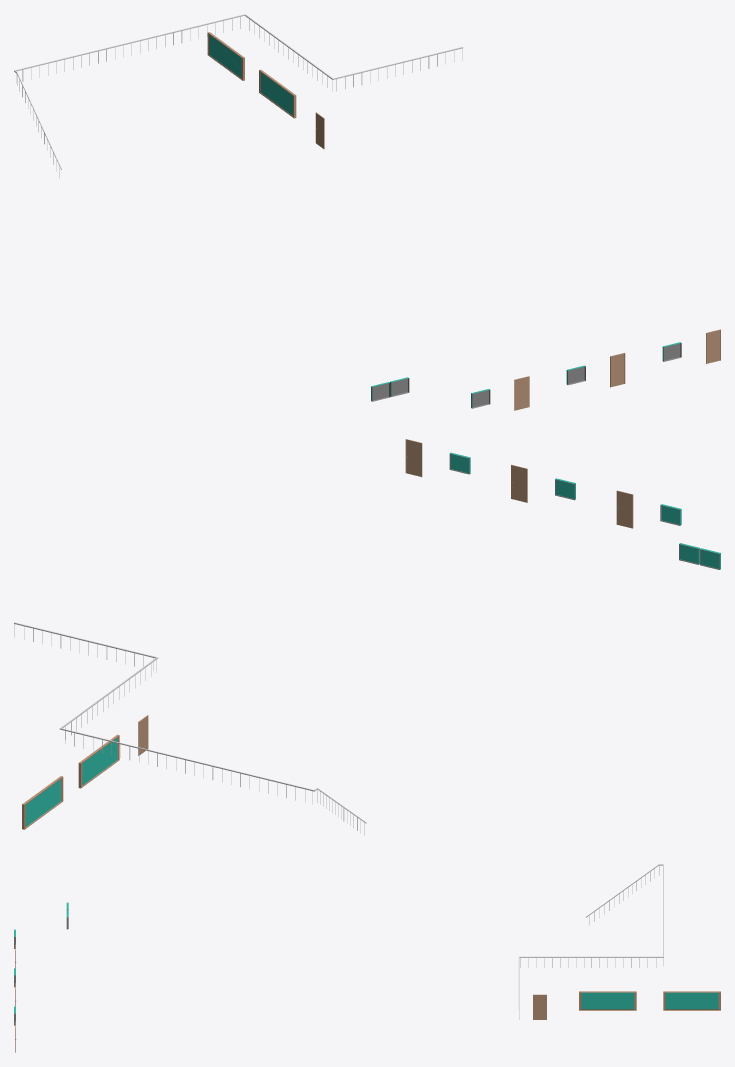
File: Doors_WindowFrame_and_Railing.FBX
The picture shows the model from 3 angles, top to bottom: view 1: azimuth 30°, elevation 25°; view 2: azimuth 150°, elevation 25°; view 3: azimuth 270°, elevation 25°; orthographic projection. The views are drawn at different scales.
Parts seen in each view (by area): view 1: Steps_HandRail_Docks002, Windowframe_006, Windowframe_015; view 2: Steps_HandRail_Docks002, Windowframe_015, Windowframe_006, DoorMain_009, DoorMain_007; view 3: Windowframe_006, Windowframe_015, Steps_HandRail_Docks002, DoorMain_010.
Boxes of the visible parts, <box> form: Steps_HandRail_Docks002: <box>14,14,463,177</box>; Windowframe_006: <box>259,69,296,118</box>; Windowframe_015: <box>207,32,244,80</box>; Steps_HandRail_Docks002: <box>14,622,366,835</box>; Windowframe_015: <box>22,776,63,829</box>; Windowframe_006: <box>78,734,119,788</box>; DoorMain_009: <box>405,439,422,477</box>; DoorMain_007: <box>616,490,633,528</box>; Windowframe_006: <box>579,991,636,1010</box>; Windowframe_015: <box>663,991,720,1010</box>; Steps_HandRail_Docks002: <box>518,864,663,1019</box>; DoorMain_010: <box>533,994,546,1019</box>.
Size of the model in its own units: 1844 by 370 by 3755.
